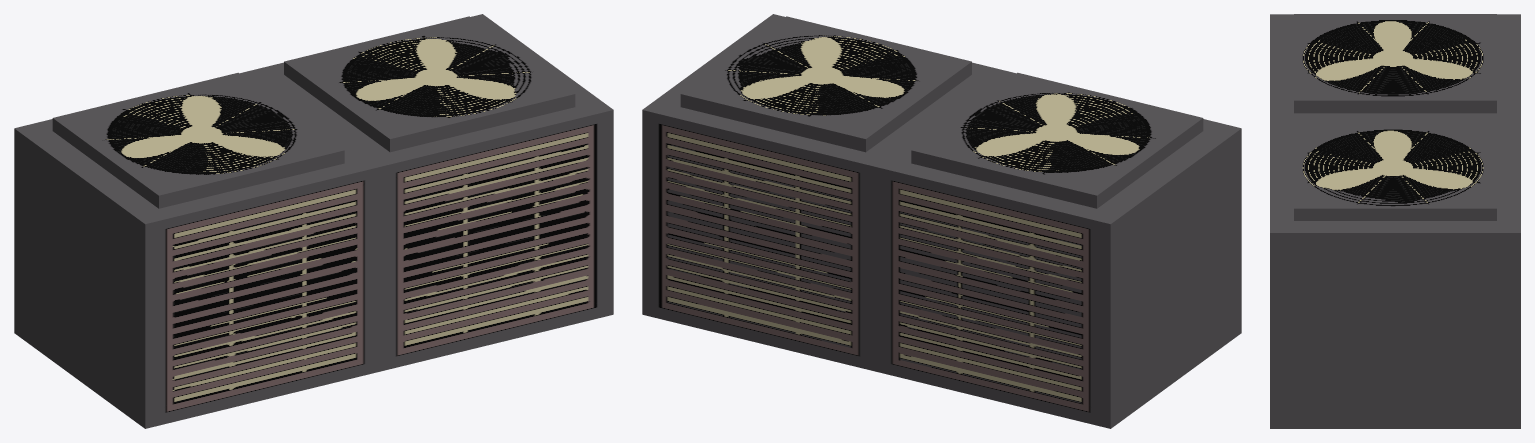
The model's file is Big_Air_Conditioner.fbx.
The picture shows the model from 3 angles, left to right: view 1: azimuth 30°, elevation 25°; view 2: azimuth 150°, elevation 25°; view 3: azimuth 270°, elevation 25°; orthographic projection. The views are drawn at different scales.
Visible parts, largest first — view 1: Big_Air_Conditioner; view 2: Big_Air_Conditioner; view 3: Big_Air_Conditioner.
Part boxes in pixels (left/top/right/bottom): Big_Air_Conditioner: left=14, top=14, right=613, bottom=428; Big_Air_Conditioner: left=642, top=14, right=1241, bottom=428; Big_Air_Conditioner: left=1270, top=14, right=1520, bottom=428.
Bounding box in the file's own units: 213 × 94.62 × 103.
